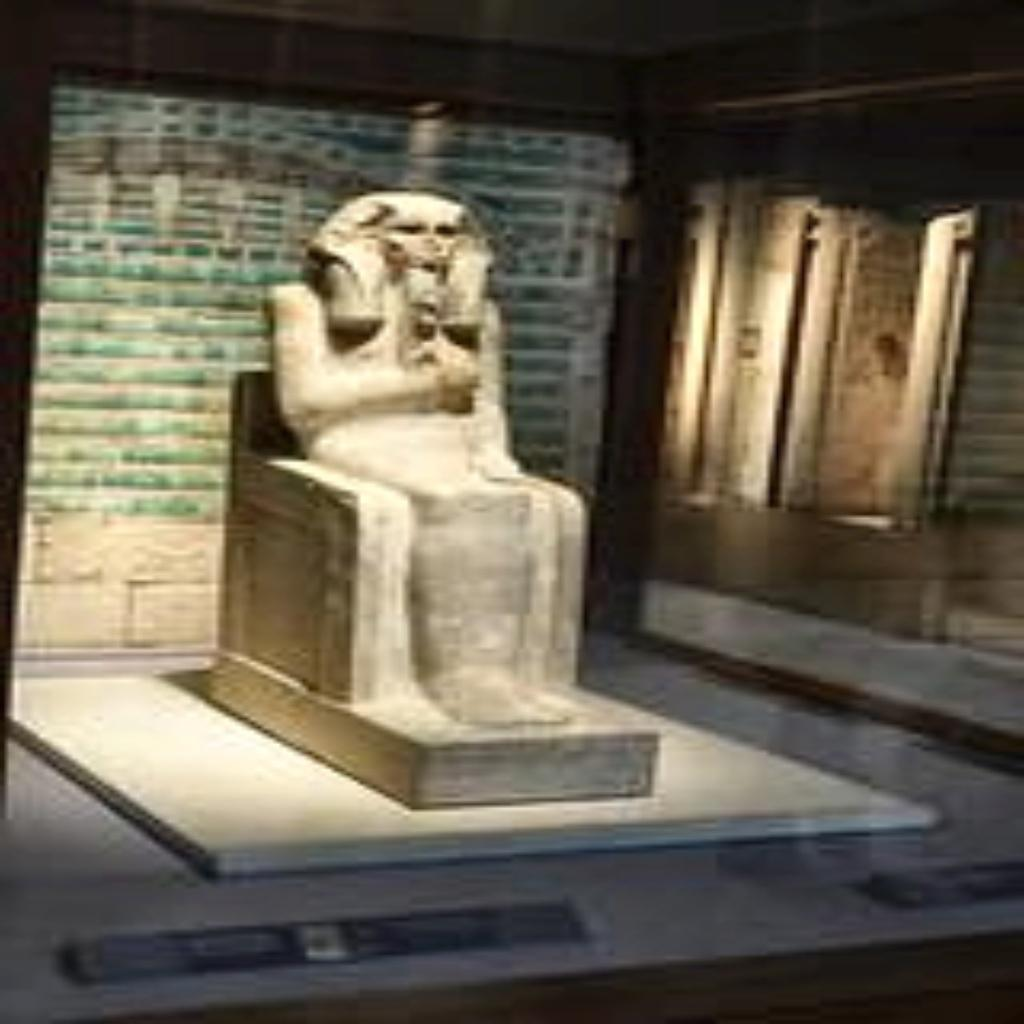Statue of King Zoser: (192, 180, 666, 806)
